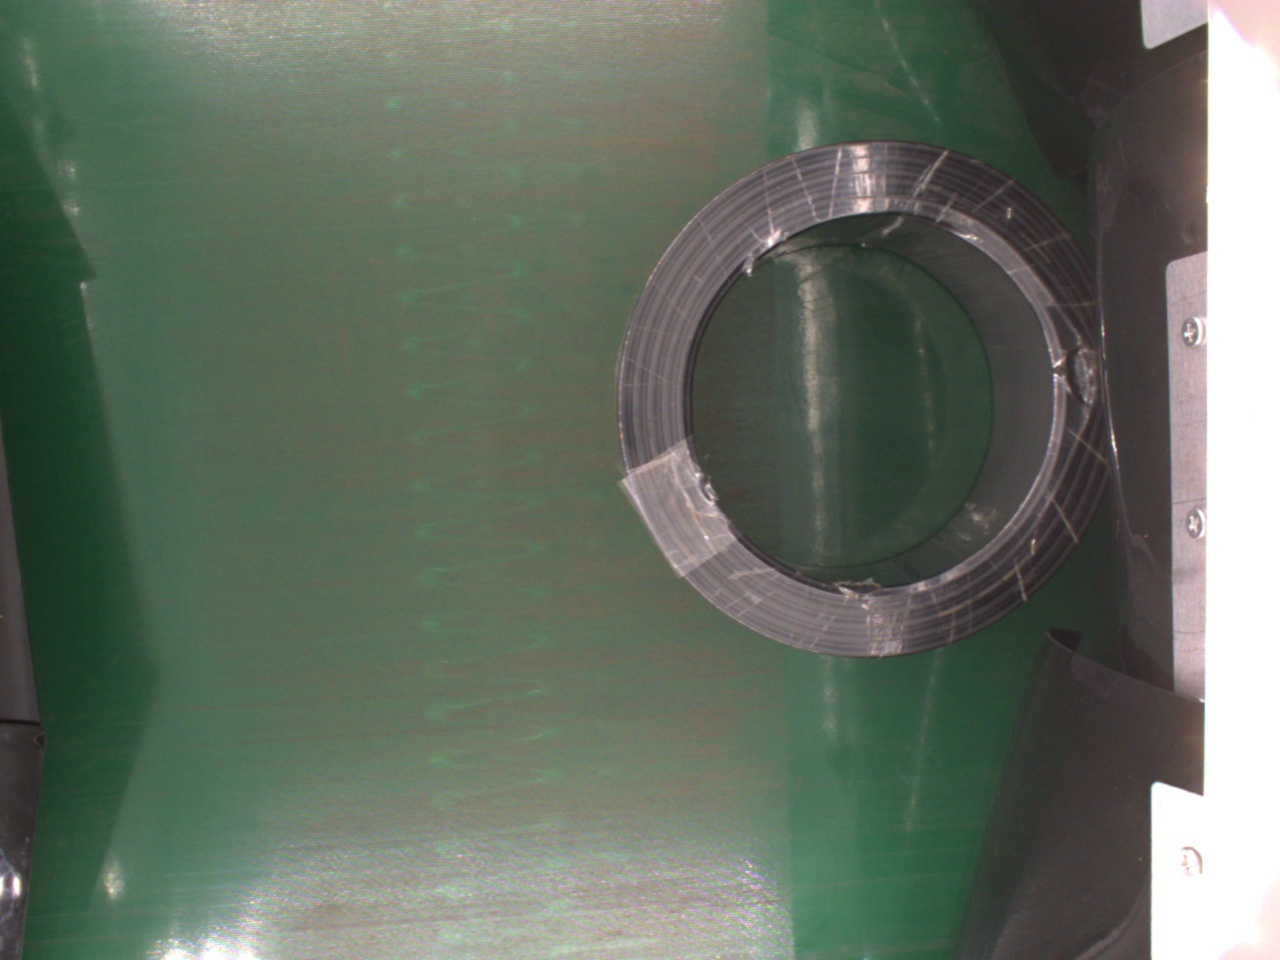black: (608, 135, 1116, 659)
